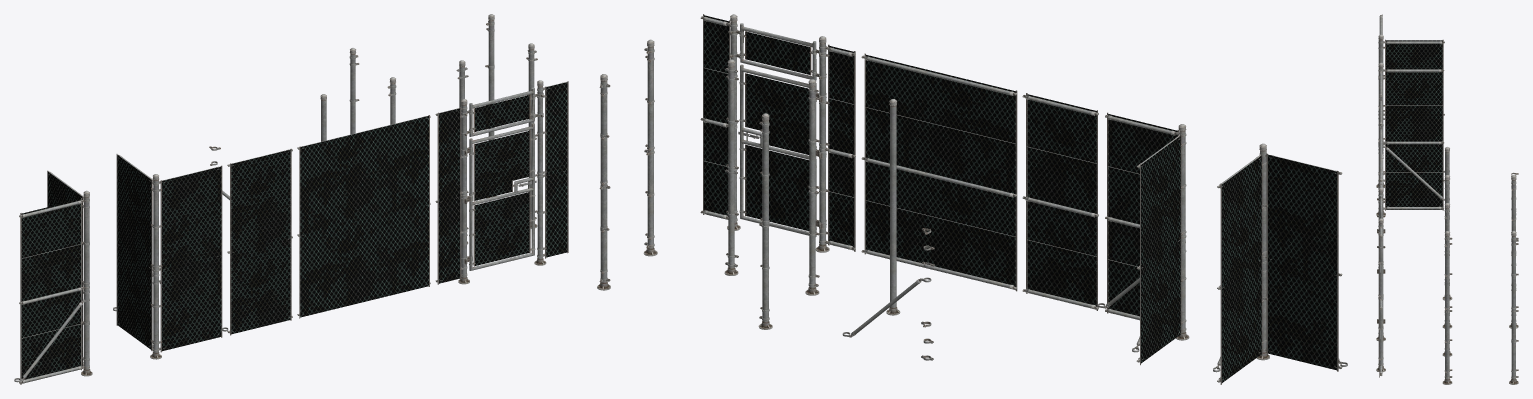
File: modular_chainlink_fence.glb
3 views of the same model, side by side, from view 1: azimuth 30°, elevation 25°; view 2: azimuth 150°, elevation 25°; view 3: azimuth 270°, elevation 25° (orthographic). The views are drawn at different scales.
Parts seen in each view (by area): view 1: modular_chainlink_fence_door_gate, modular_chainlink_fence_door_latch; view 2: modular_chainlink_fence_door_gate, modular_chainlink_fence_door_latch; view 3: modular_chainlink_fence_door_gate, modular_chainlink_fence_door_latch.
Part boxes in pixels (x1,y1,x2,y2): modular_chainlink_fence_door_gate: (21,82,567,379); modular_chainlink_fence_door_latch: (14,14,568,384); modular_chainlink_fence_door_gate: (704,15,1336,382); modular_chainlink_fence_door_latch: (597,14,1347,384); modular_chainlink_fence_door_gate: (1386,40,1442,209); modular_chainlink_fence_door_latch: (1376,14,1518,384).
Size of the model in its own units: 8.12 by 2.52 by 2.15.
Materials: 2 (2 with a texture image).
